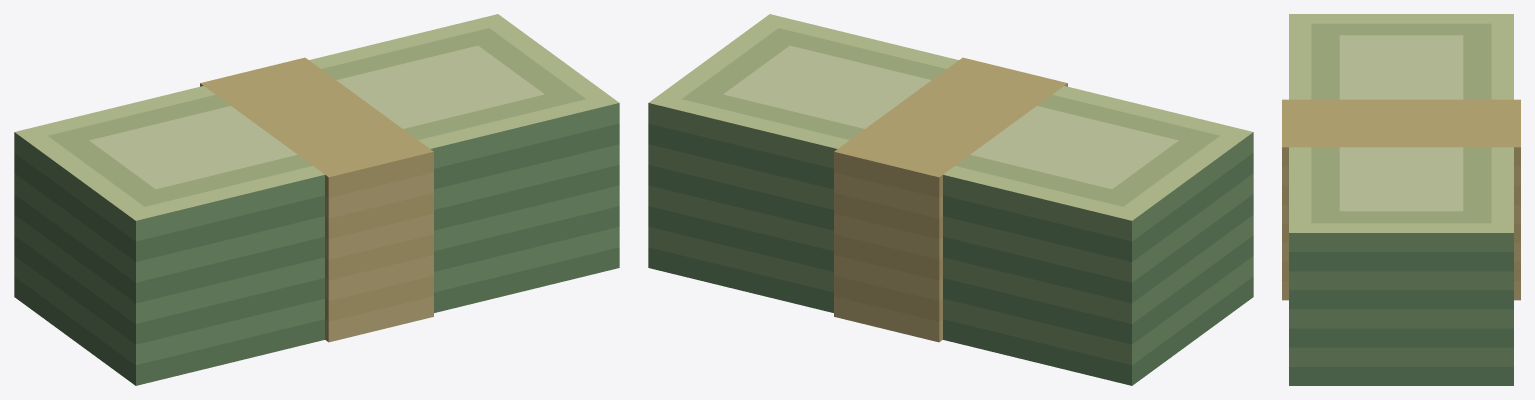
Rendered from dinheiro.glb.
3 renders of one model, left to right at view 1: azimuth 30°, elevation 25°; view 2: azimuth 150°, elevation 25°; view 3: azimuth 270°, elevation 25°, orthographic. The views are drawn at different scales.
Parts seen in each view (by area): view 1: dinheiro; view 2: dinheiro; view 3: dinheiro.
Boxes of the visible parts, left/top/right/bottom form: dinheiro: left=14, top=14, right=619, bottom=385; dinheiro: left=648, top=14, right=1253, bottom=385; dinheiro: left=1282, top=14, right=1520, bottom=385.
Bounding box in the file's own units: 0.46 × 0.15 × 0.212.
